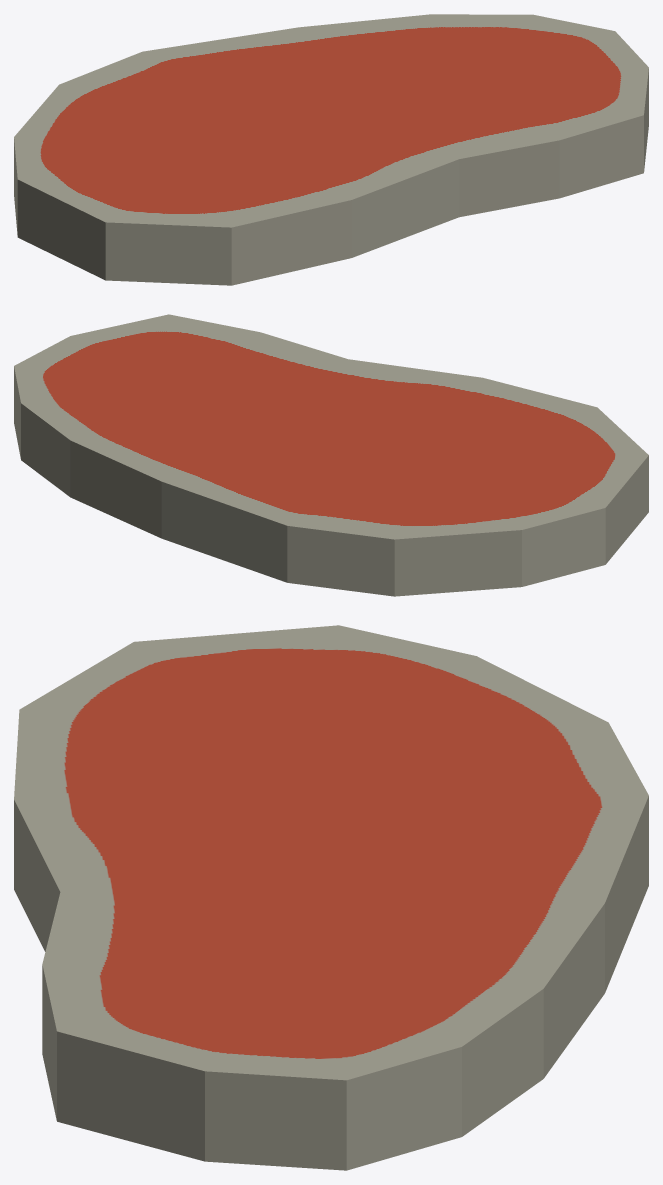
File: Meat.fbx
3 views of the same model, one above another, from view 1: azimuth 30°, elevation 25°; view 2: azimuth 150°, elevation 25°; view 3: azimuth 270°, elevation 25° (orthographic). The views are drawn at different scales.
Parts seen in each view (by area): view 1: Plane; view 2: Plane; view 3: Plane.
Boxes of the visible parts, x1,y1,x2,y2 form: Plane: [14, 14, 648, 285]; Plane: [14, 314, 648, 596]; Plane: [14, 625, 648, 1170].
Bounding box in the file's own units: 852 × 78.86 × 503.
1 material, 1 textured.
